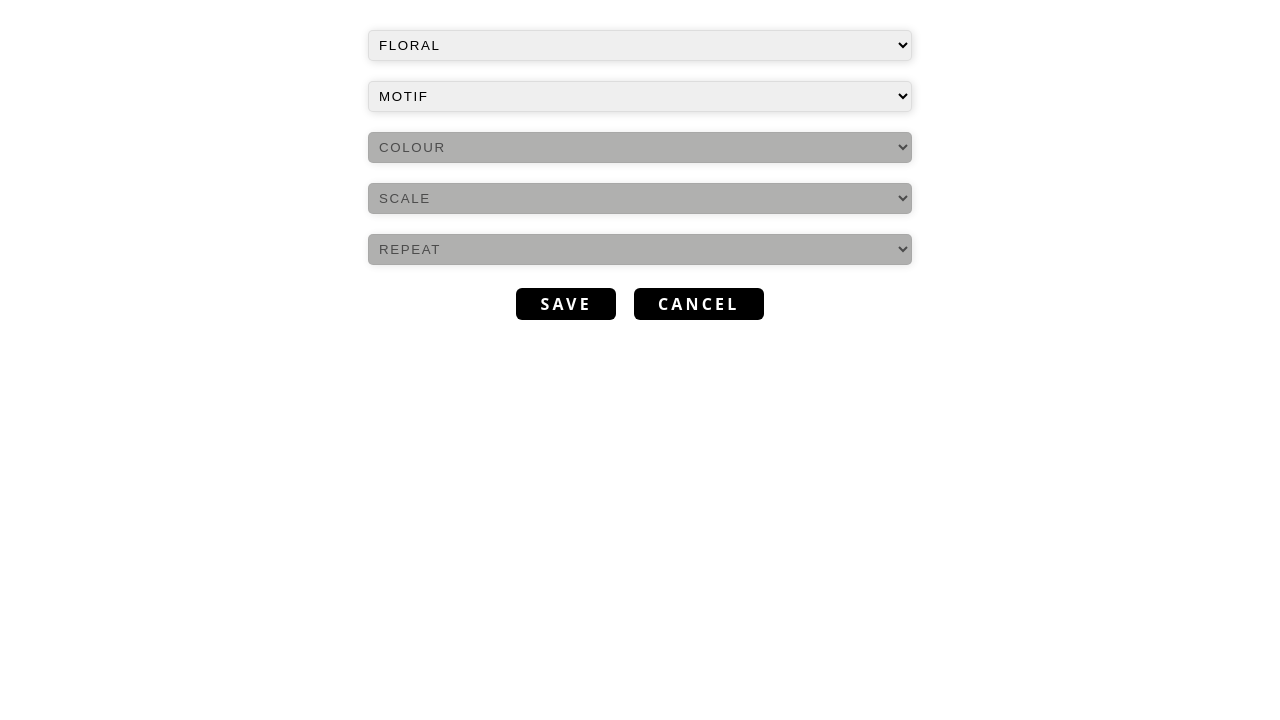
Test: DesignForm › the save cta opens popup and stores design url when user is not logged in
The width and height of the screenshot is (1280, 720).
Click the button "Save": [566, 304] box [516,288,616,320]
(page scrolled)
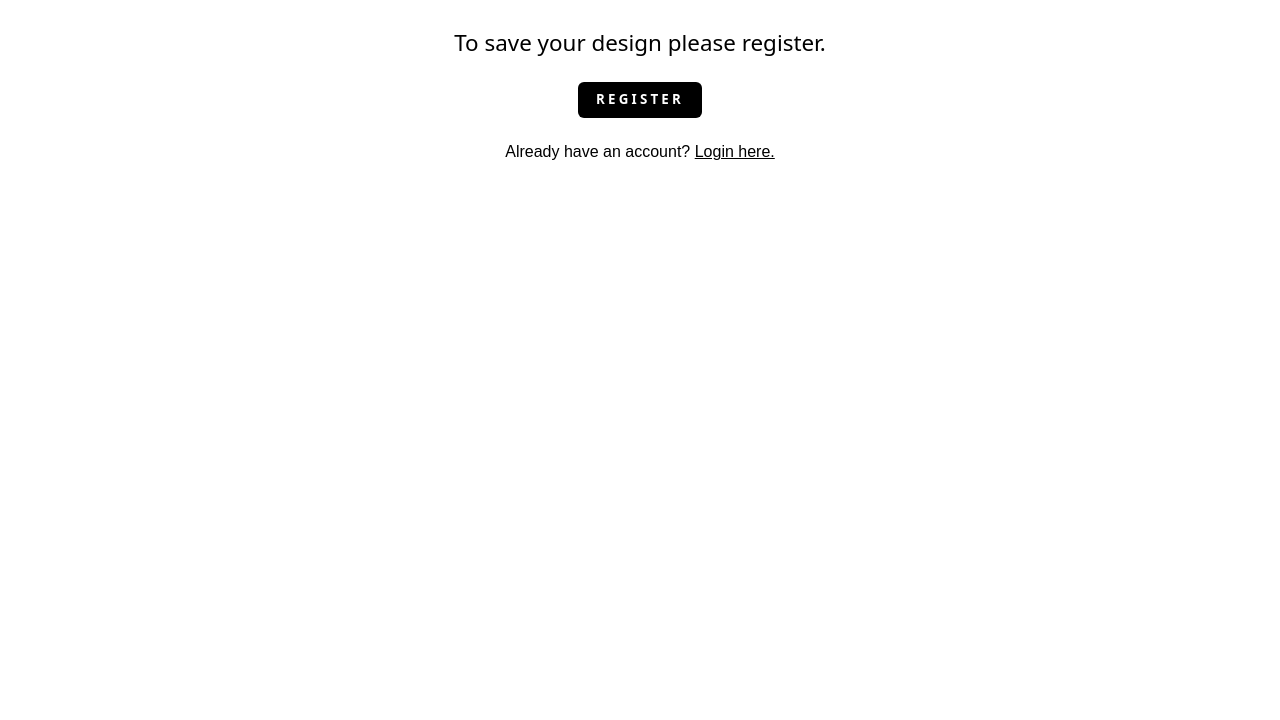
Check: the element with test id "popup" is shown
